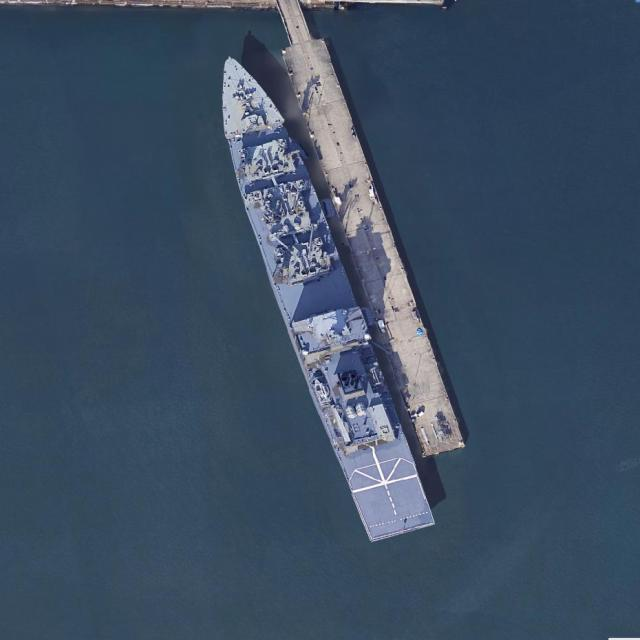Auxiliary Ships: (193, 44, 438, 548)
